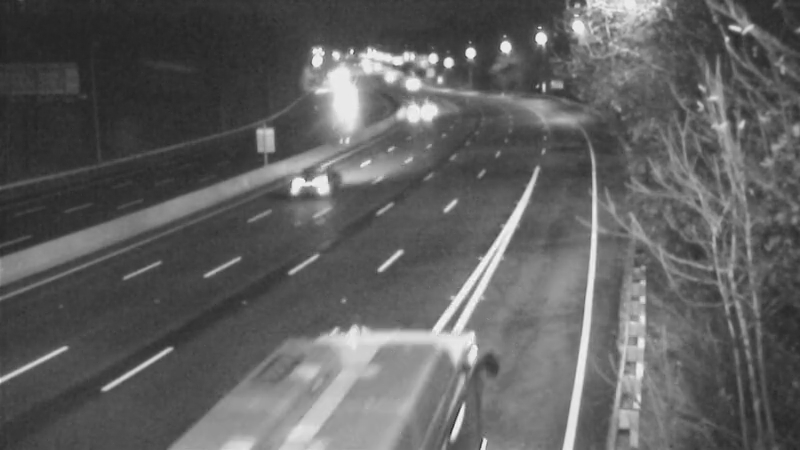vehicle: (285, 335, 395, 445), (273, 142, 353, 222), (386, 57, 436, 107), (397, 86, 447, 136), (320, 80, 370, 130)
